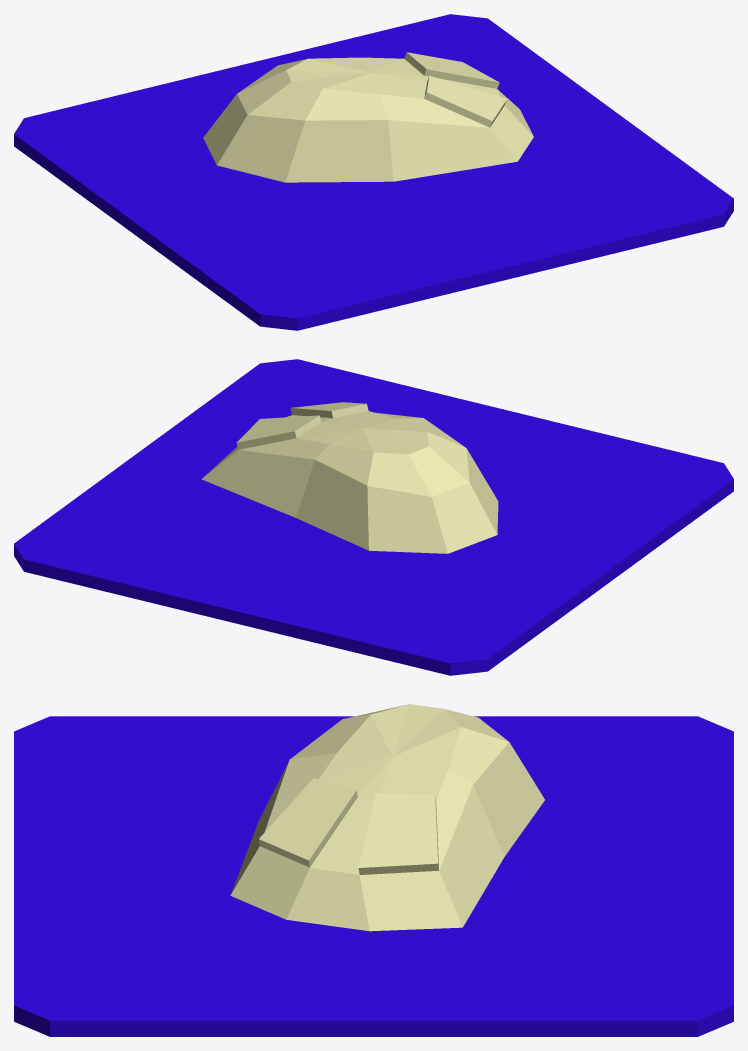
File: elmouse.gltf
3 renders of one model, top to bottom at view 1: azimuth 30°, elevation 25°; view 2: azimuth 150°, elevation 25°; view 3: azimuth 270°, elevation 25°, orthographic. The views are drawn at different scales.
Parts seen in each view (by area): view 1: Cube.001, Sphere; view 2: Cube.001, Sphere; view 3: Cube.001, Sphere.
Boxes of the visible parts, x1,y1,x2,y2 form: Cube.001: [14, 14, 733, 330]; Sphere: [203, 52, 533, 182]; Cube.001: [14, 359, 733, 675]; Sphere: [201, 402, 498, 553]; Cube.001: [14, 716, 733, 1036]; Sphere: [230, 704, 544, 931].
Bounding box in the file's own units: 1.94 × 0.4065 × 1.94.
